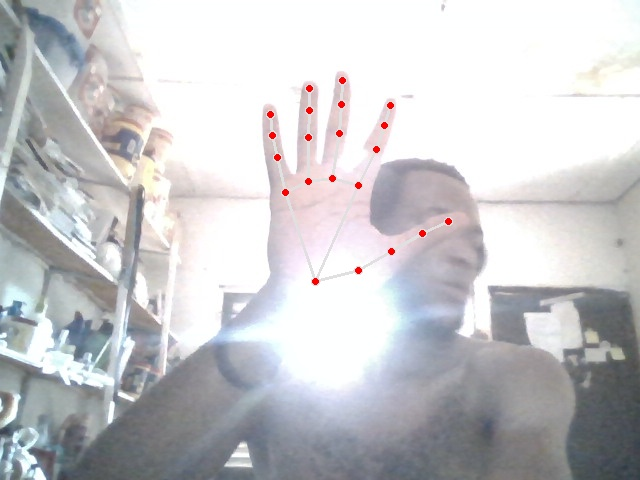no: (261, 72, 469, 303)
